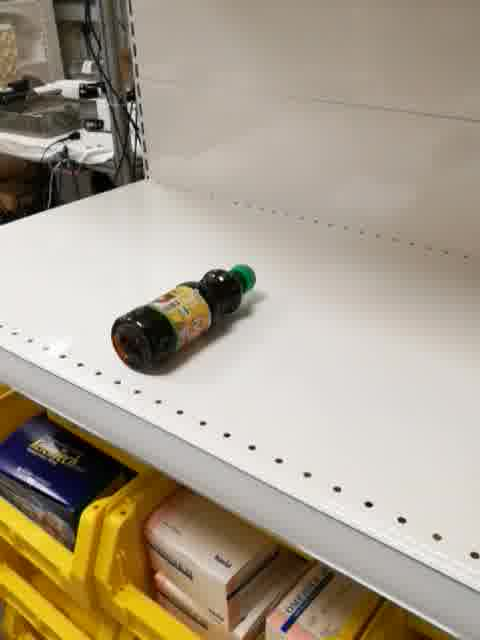cookingoil: (106, 263, 259, 375)
